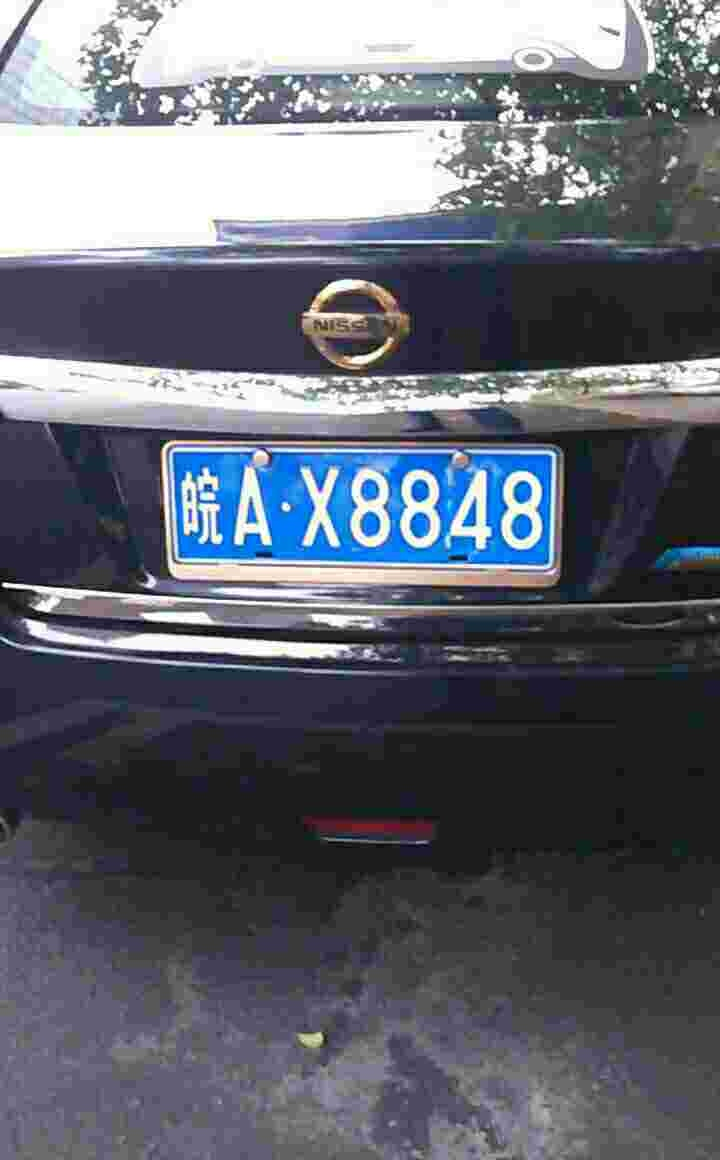car_blue: (162, 439, 564, 583)
